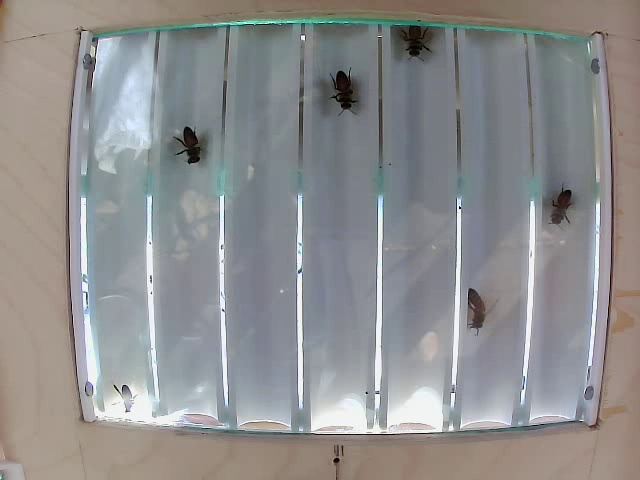bee: (541, 177, 579, 242), (331, 74, 372, 127), (390, 22, 439, 66), (165, 120, 211, 166), (468, 282, 499, 339)
